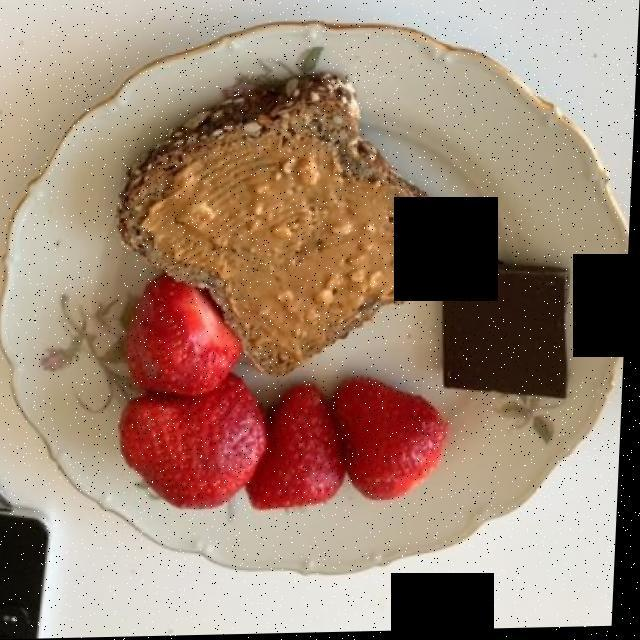chocolate: (449, 269, 569, 393)
peanut-butter: (149, 135, 467, 358)
strawberries: (117, 283, 446, 509)
